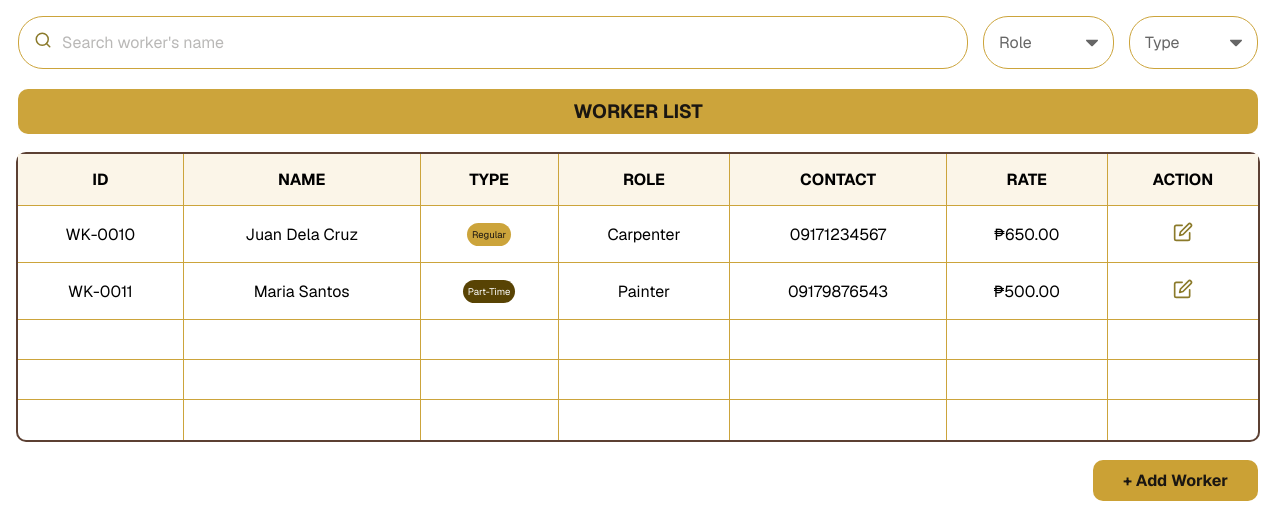
Test case: WorkerList › filters by role and by type
Expected: the text "Juan Dela Cruz" is shown, [183, 206, 420, 262]
Select "Painter" in the dropdown named "Filter by role" at (1048, 42), box [983, 16, 1114, 69]
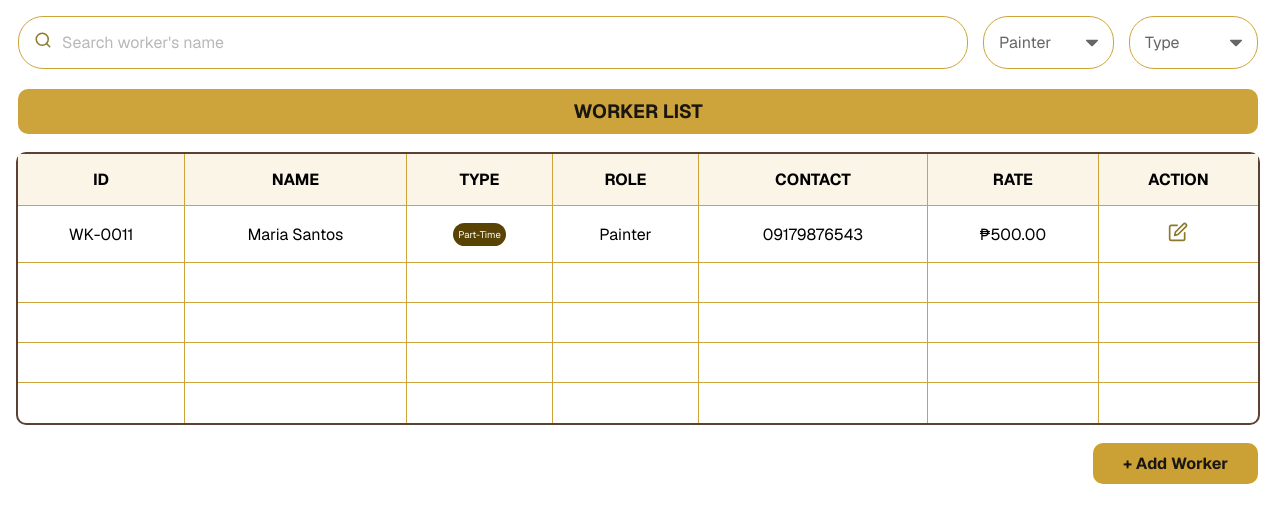
Expected: the text "Juan Dela Cruz" is gone
Expected: the text "Maria Santos" is shown, [184, 206, 406, 262]
Select "Role" in the dropdown named "Filter by role" at (1048, 42), box [983, 16, 1114, 69]
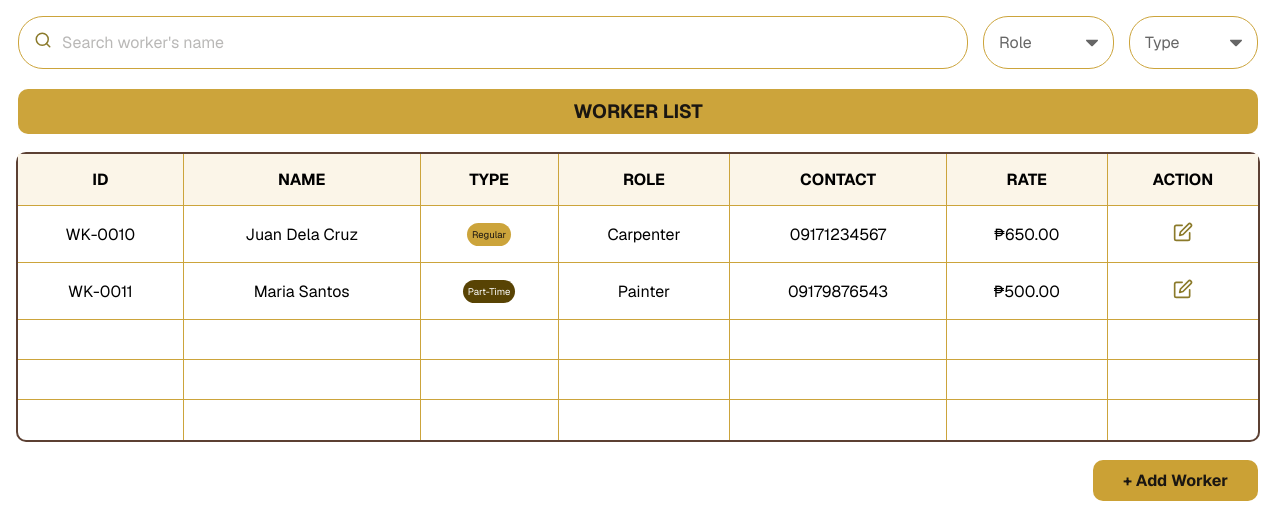
Select "Regular" in the dropdown named "Filter by worker type" at (1194, 42), box [1129, 16, 1258, 69]
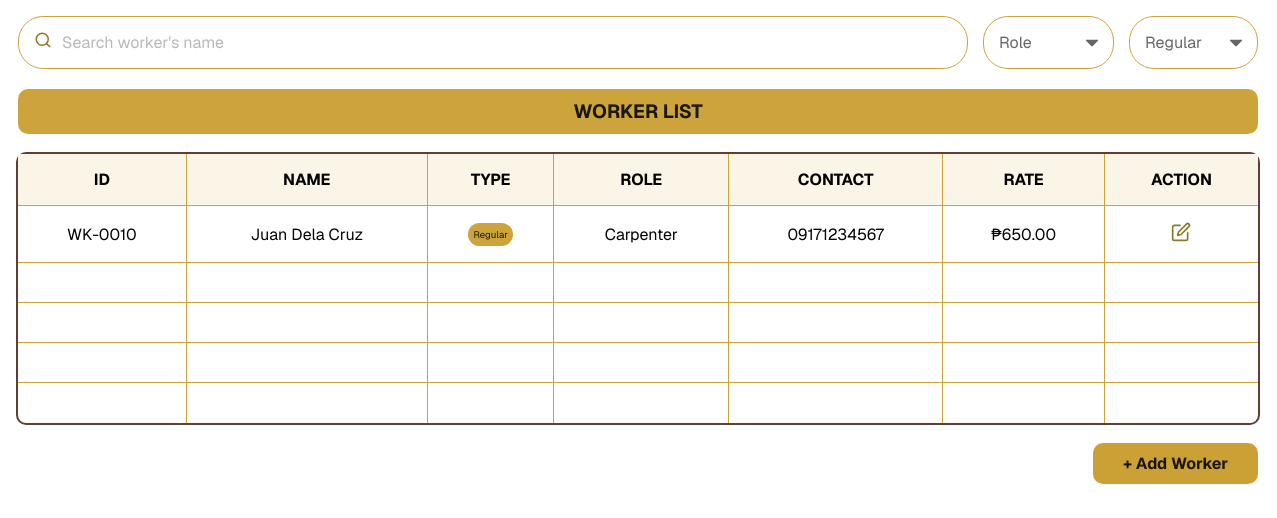
Expected: the text "Juan Dela Cruz" is shown, [186, 206, 427, 262]
Expected: the text "Maria Santos" is gone
